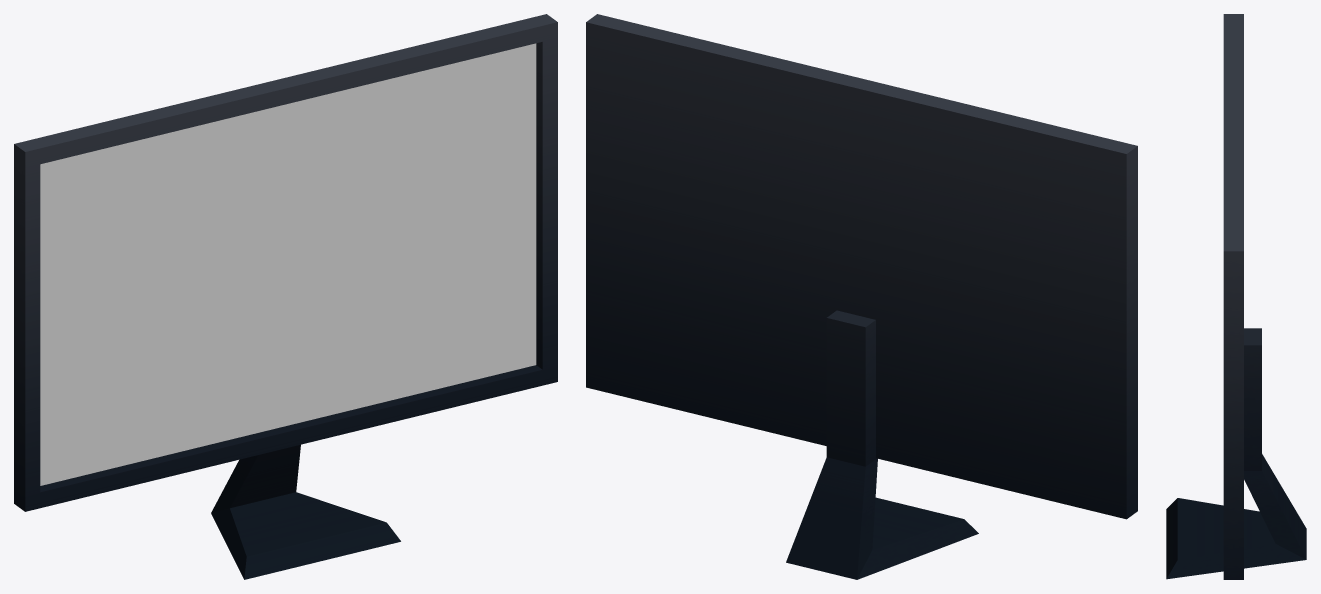
Rendered from Screen_01.fbx.
3 renders of one model, left to right at view 1: azimuth 30°, elevation 25°; view 2: azimuth 150°, elevation 25°; view 3: azimuth 270°, elevation 25°, orthographic. The views are drawn at different scales.
Parts seen in each view (by area): view 1: Box006; view 2: Box006; view 3: Box006.
Boxes of the visible parts, x1,y1,x2,y2 form: Box006: [14, 14, 557, 579]; Box006: [586, 14, 1137, 579]; Box006: [1166, 14, 1306, 579].
Size of the model in its own units: 95.33 by 77.1 by 23.81.
